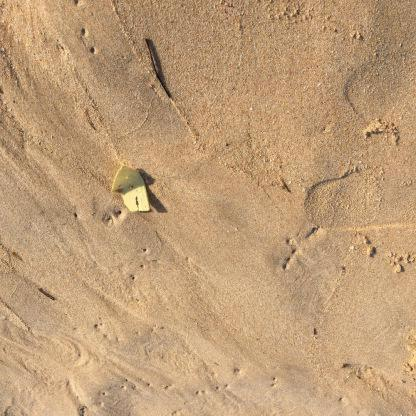Styrofoam piece: (112, 165, 151, 211)
